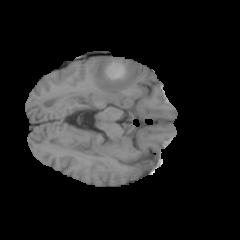glioma: (82, 56, 147, 105)
